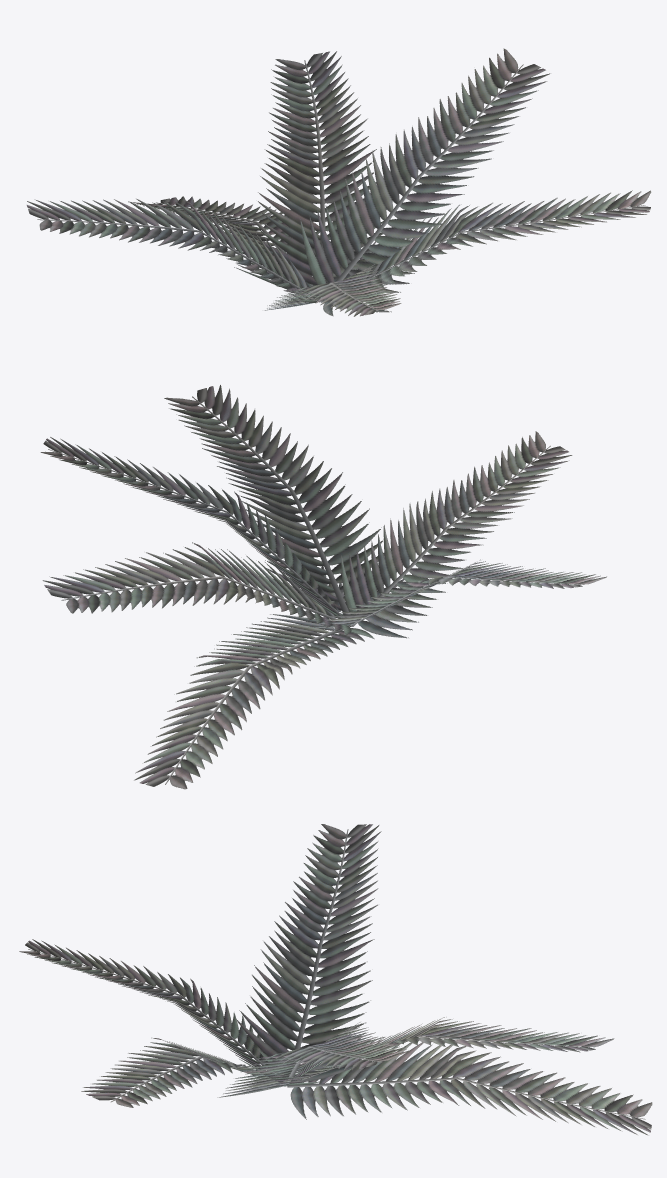
File: palm_l2.gltf
3 views of the same model, one above another, from view 1: azimuth 30°, elevation 25°; view 2: azimuth 150°, elevation 25°; view 3: azimuth 270°, elevation 25° (orthographic). The views are drawn at different scales.
Parts seen in each view (by area): view 1: palm_l2; view 2: palm_l2; view 3: palm_l2.
Part boxes in pixels (box(x1,y1,x2,y2)): palm_l2: box(26, 48, 651, 316); palm_l2: box(40, 385, 606, 789); palm_l2: box(19, 824, 652, 1135).
Bounding box in the file's own units: 8.8 × 3.08 × 8.48.
1 material, 1 textured.
